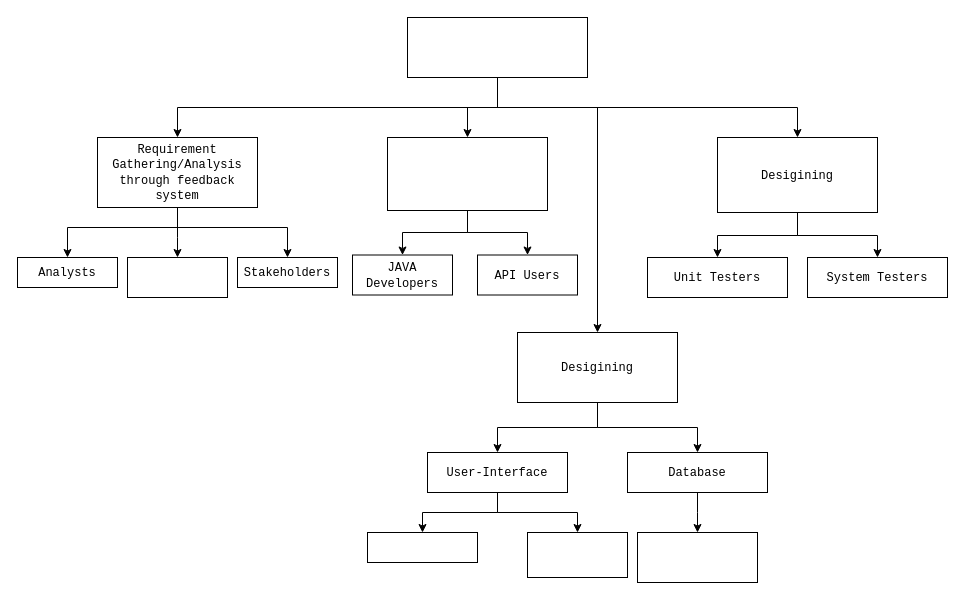
Some shapes in this 965 by 600 pixel diagram are drawn without their labels. Each missing label, with the centre of its shape:
"Cloud Firestore Designers" goes at point (697, 557).
"Coding" goes at point (467, 173).
"IF-ELSE" goes at point (497, 47).
"Project Manager" goes at point (177, 277).
"Prototype Designers" goes at point (577, 555).
"XML Designers" goes at point (422, 547).
